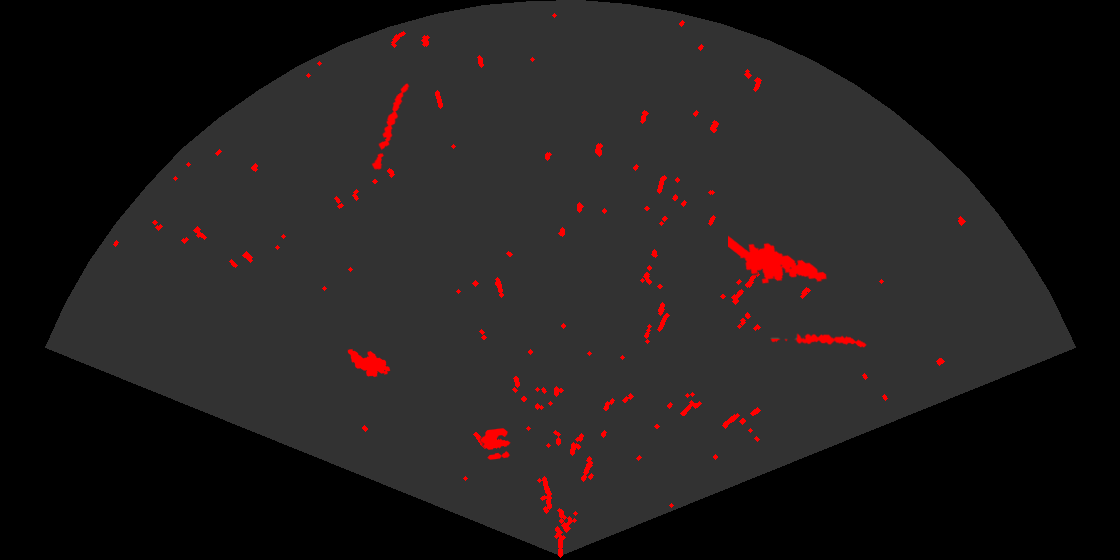AUV: (346, 347, 392, 379)
ball: (479, 427, 512, 461)
chain: (370, 82, 411, 172), (769, 332, 868, 349)
frogman: (728, 234, 829, 285)
